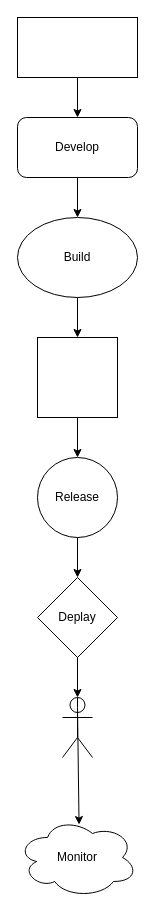
Some shapes in this 155 by 915 pixel diagram are drawn without their labels. Each missing label, with the centre of its shape:
Operate: the point at 77,727
Plan: the point at 77,47
Test: the point at 77,377
